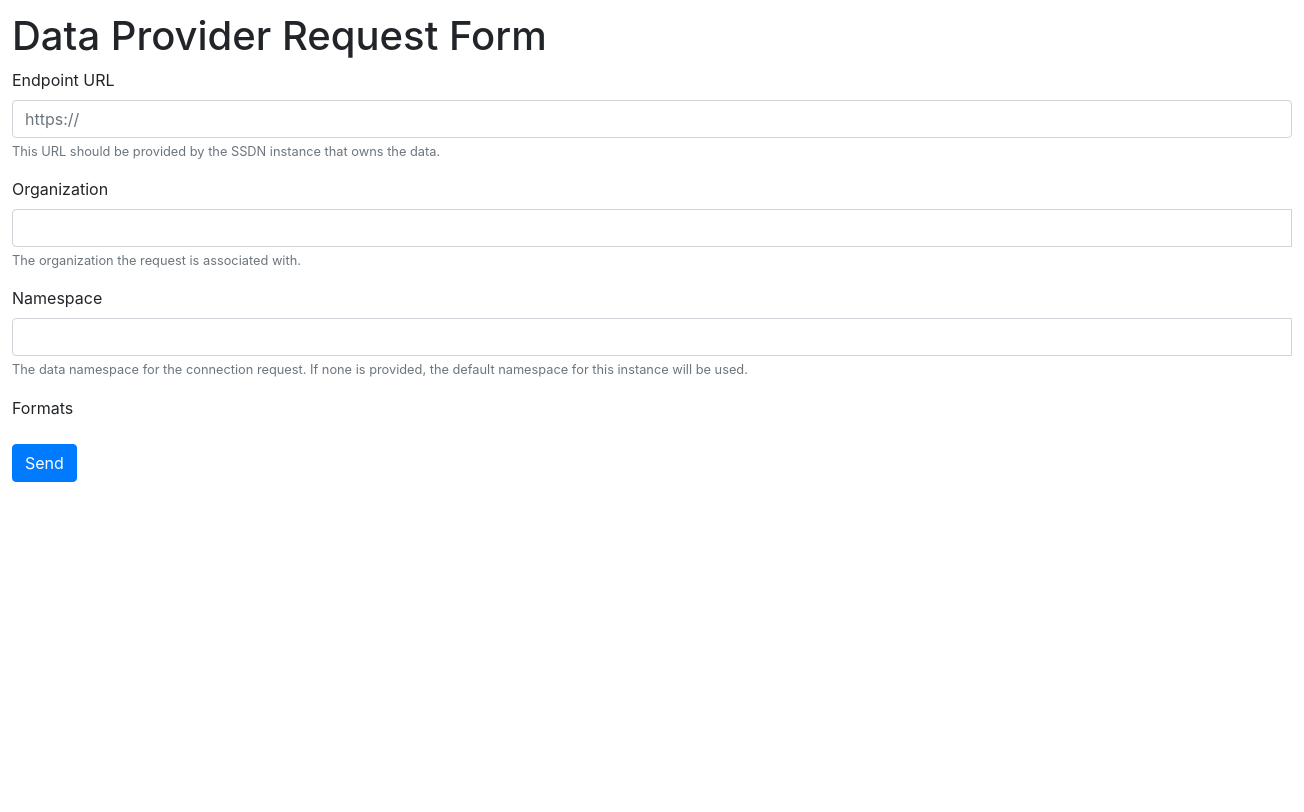
Test: <CreateConnectionRequest/> › validates the entered values and displays error messages
Click the button "Send".
click(44, 463)  # box [12, 444, 77, 482]
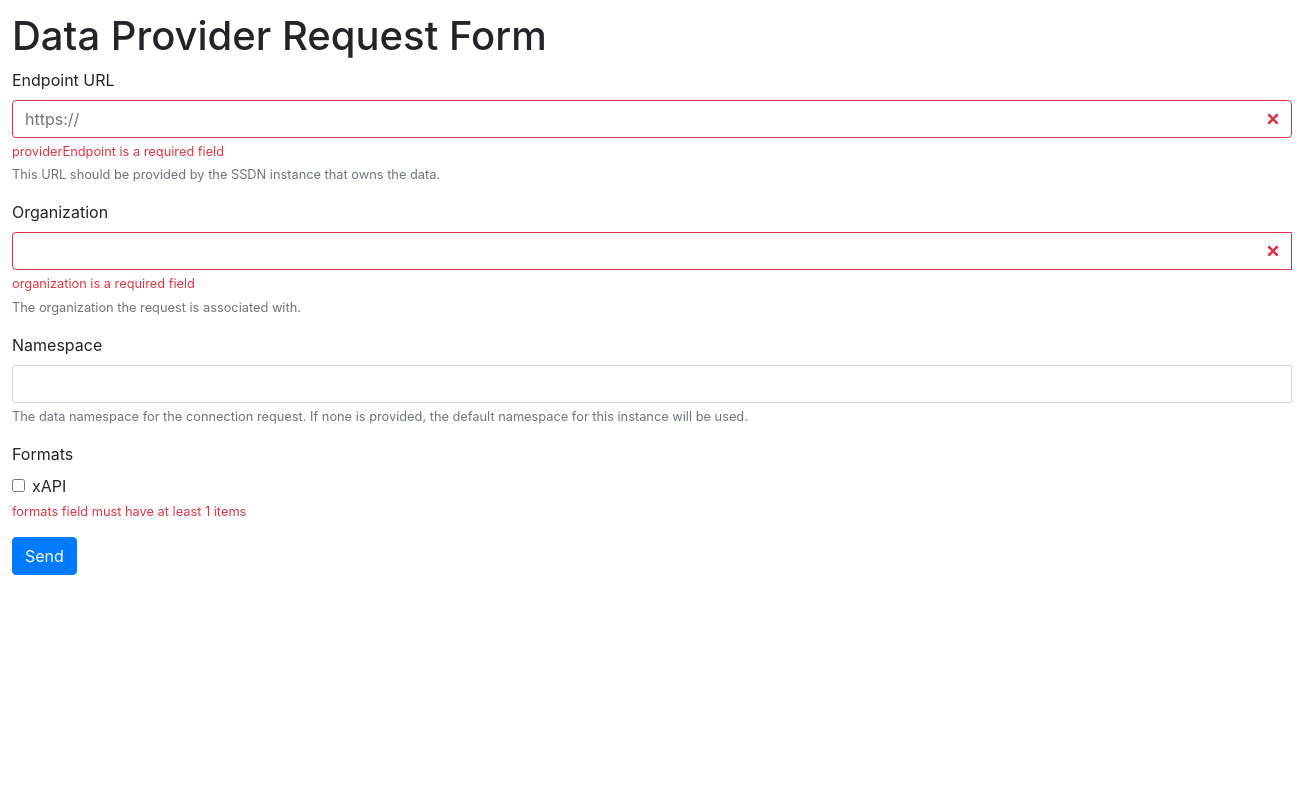
Check: the text "providerEndpoint is a required field" is shown, box [12, 144, 224, 159]
Check: the text "organization is a required field" is shown, box [12, 276, 195, 291]
Check: the text "formats field must have at least 1 items" is shown, box [12, 504, 246, 519]
